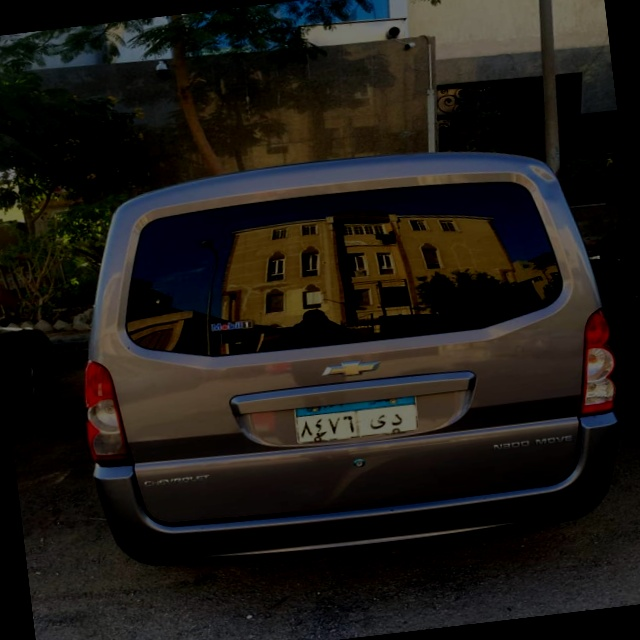License Plate: (293, 391, 420, 445)
